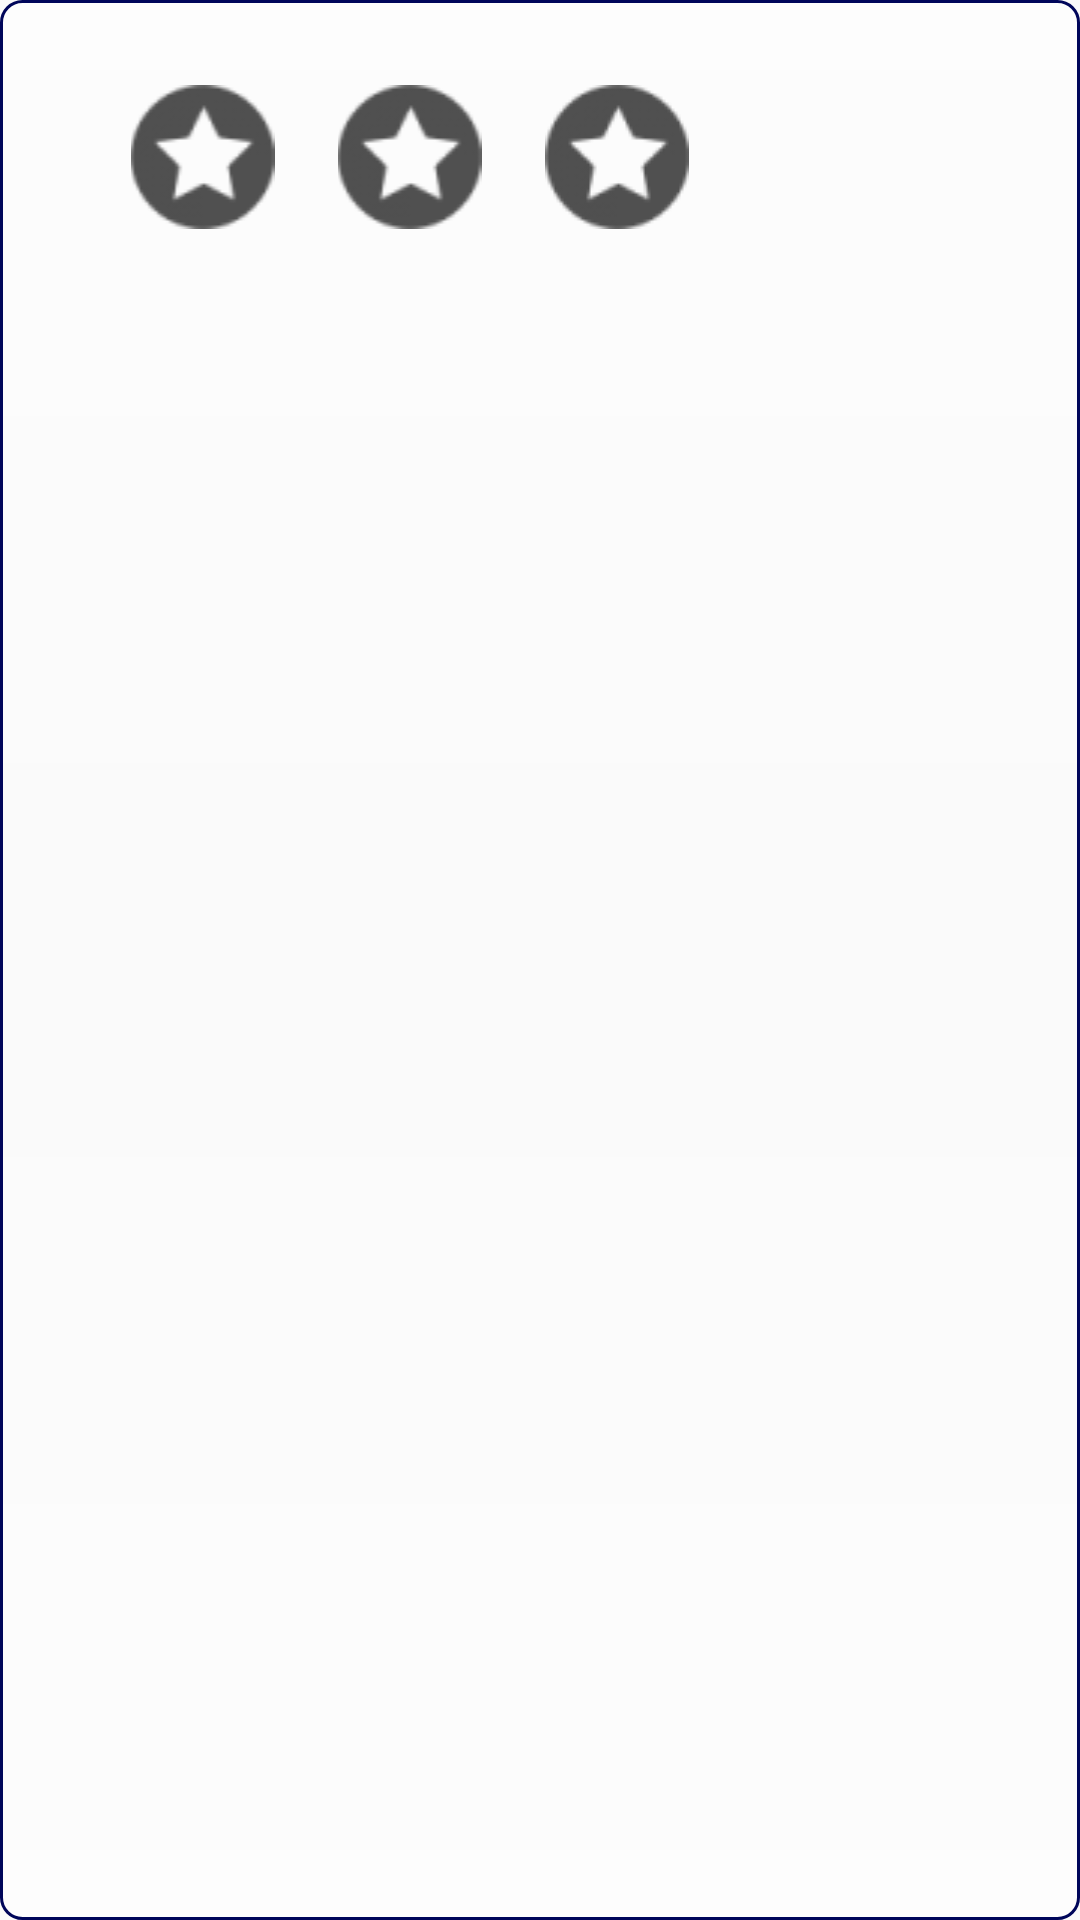

Screen size 1080px×1920px. Icon name, then its center in pixels as point (x, y):
star: point (203, 157), point (410, 157), point (617, 157)
